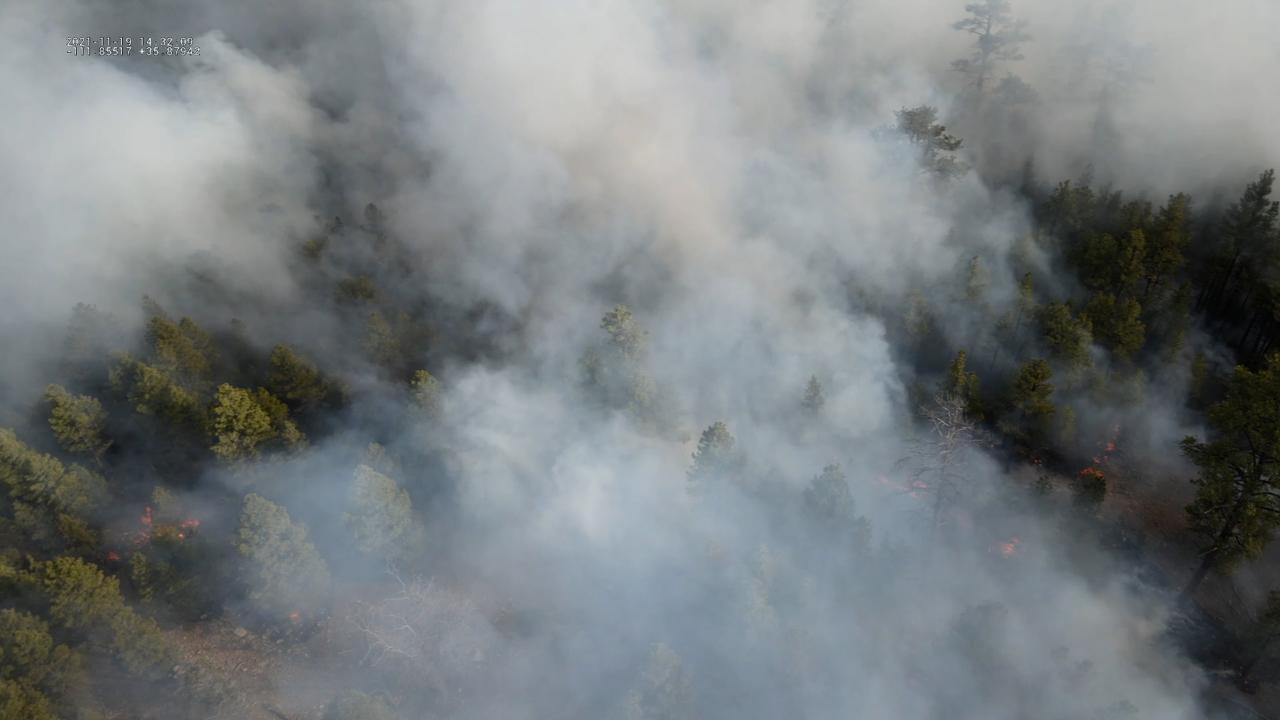fire: (133, 505, 201, 552), (993, 537, 1019, 559), (1075, 467, 1105, 480), (1101, 440, 1117, 453), (106, 549, 120, 561), (1090, 456, 1108, 465), (1032, 458, 1042, 464)
smoke: (0, 0, 1280, 720)
